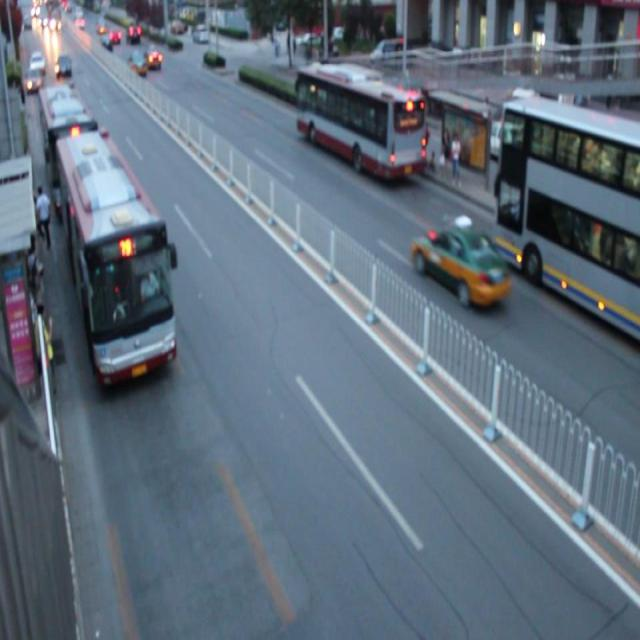car: (410, 221, 510, 308)
van: (496, 97, 640, 341), (56, 138, 176, 382), (294, 67, 425, 177), (37, 85, 102, 212)
